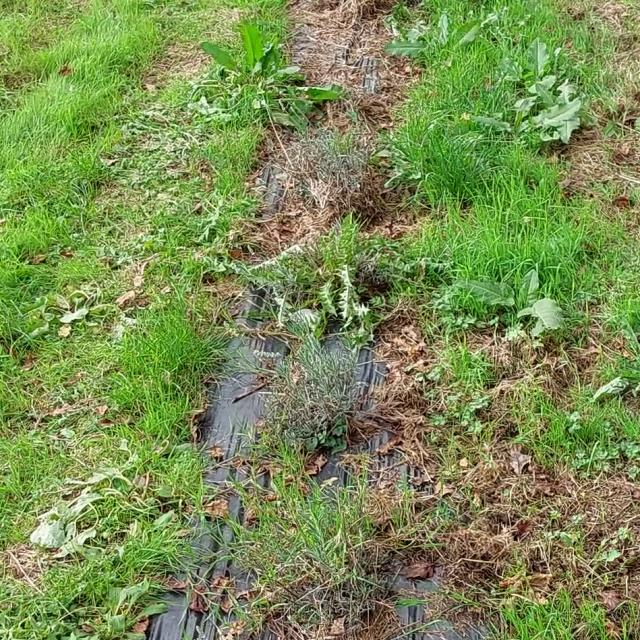organic waste: (181, 26, 326, 139), (18, 452, 138, 552), (34, 271, 162, 352), (457, 255, 571, 340), (476, 78, 597, 138), (473, 16, 572, 88), (391, 4, 482, 66)
